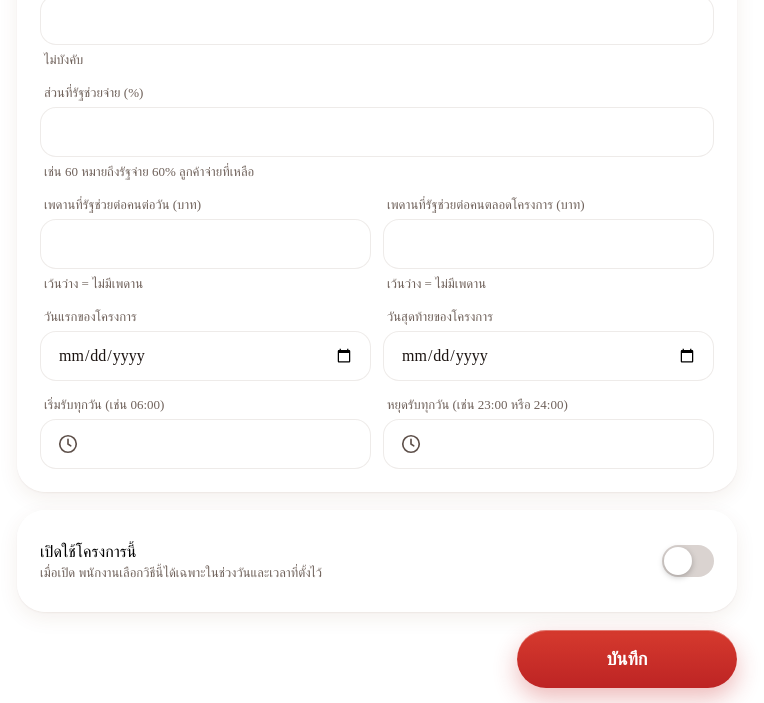
Test: no scheme yet › a blank form is refused field by field, nothing sent
The image size is (764, 703).
(page scrolled)
Click the button "บันทึก" at (627, 659), box [517,630,737,688]
(page scrolled)
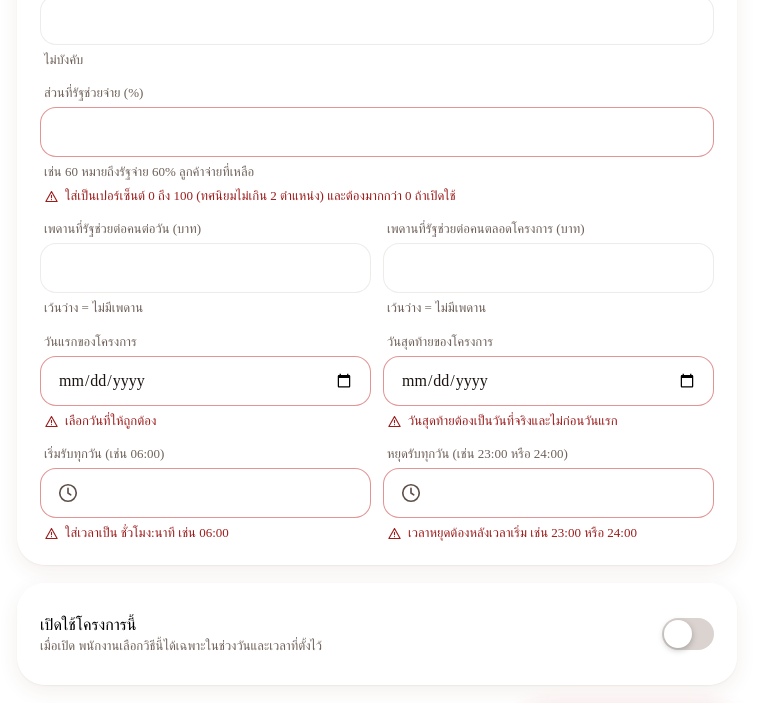
expect the text "ใส่เป็นเปอร์เซ็นต์ 0 ถึง 100 (ทศนิยมไม่เกิน 2 ตำแหน่ง) และต้องมากกว่า 0 ถ้าเปิดใช้" is shown: met, box [65,188,456,203]
expect the text "เลือกวันที่ให้ถูกต้อง" is shown: met, box [65,412,156,430]
expect the text "ใส่เวลาเป็น ชั่วโมง:นาที เช่น 06:00" is shown: met, box [65,524,229,542]
